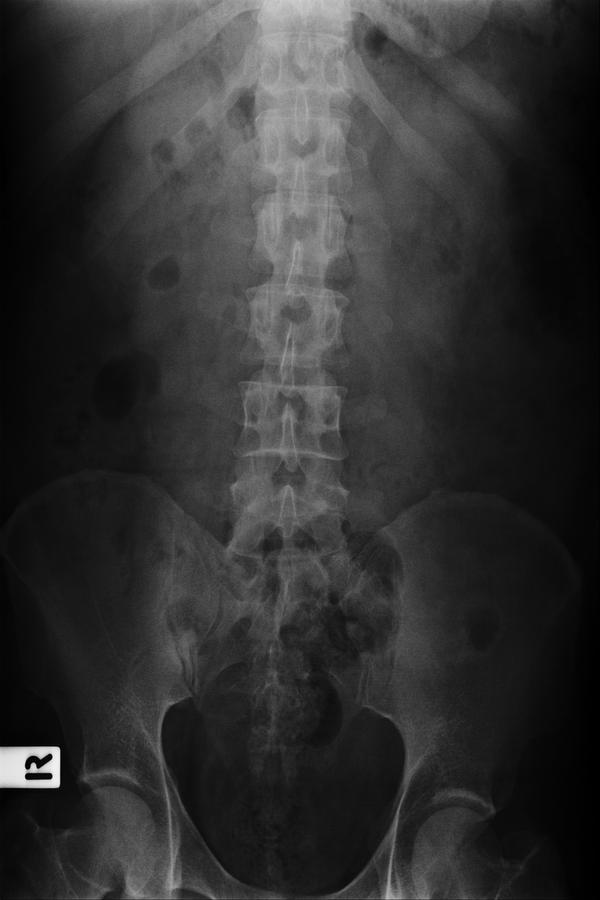lumbar scoliosis: (224, 6, 357, 576)
